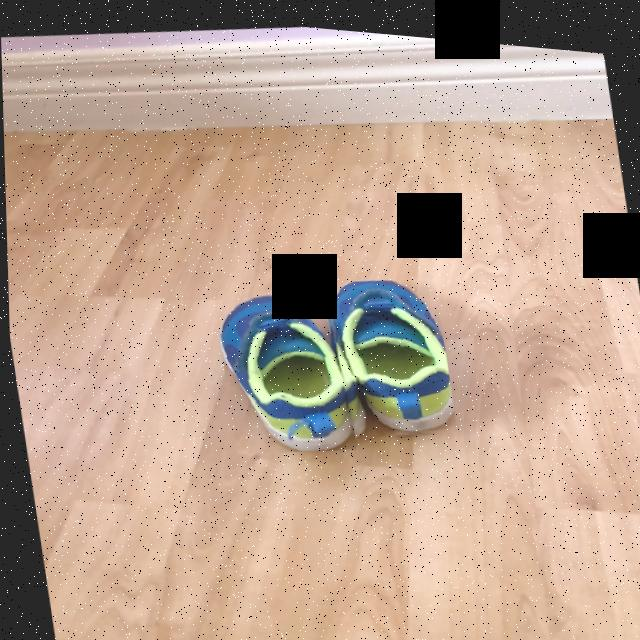shoe: (217, 294, 353, 446), (327, 273, 453, 427)
